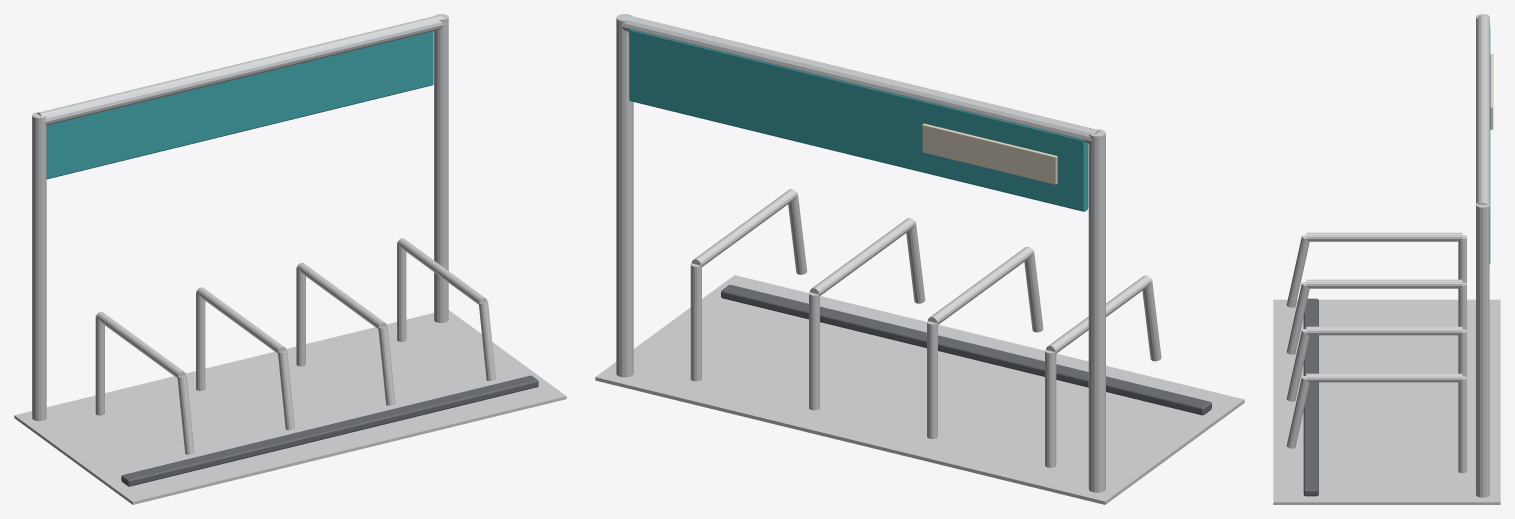
Rendered from public-aquarium-and-marine-centre-pushchair-park-f8fc2b46__34160.glb.
The picture shows the model from 3 angles, left to right: view 1: azimuth 30°, elevation 25°; view 2: azimuth 150°, elevation 25°; view 3: azimuth 270°, elevation 25°; orthographic projection. The views are drawn at different scales.
Visible parts, largest first — view 1: pushchair-park; view 2: pushchair-park; view 3: pushchair-park.
Boxes of the visible parts, bbox=[...] form: pushchair-park: bbox=[14, 14, 566, 504]; pushchair-park: bbox=[595, 14, 1244, 504]; pushchair-park: bbox=[1273, 14, 1500, 504].
Bounding box in the file's own units: 1.9 × 1.29 × 0.9.
